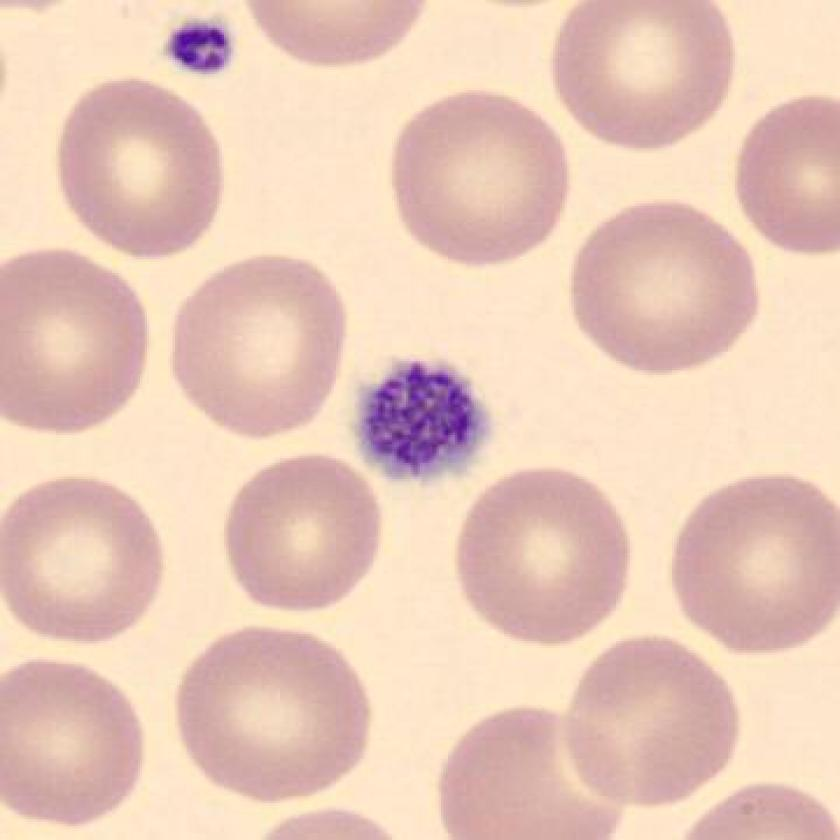platelets: (351, 351, 500, 490), (162, 15, 246, 87)
